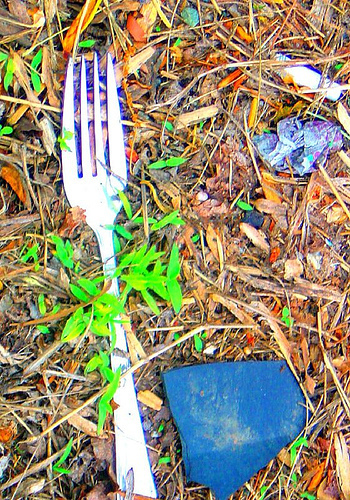litter: (63, 51, 158, 497), (160, 361, 310, 499), (248, 119, 343, 174)
